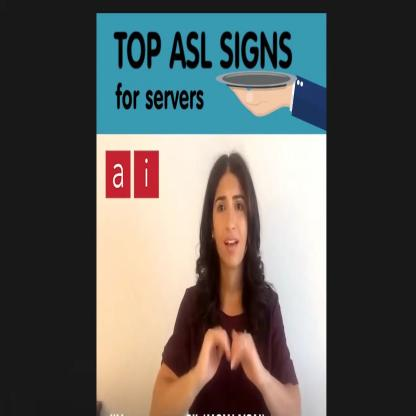HowAreYou: (196, 308, 260, 399)
